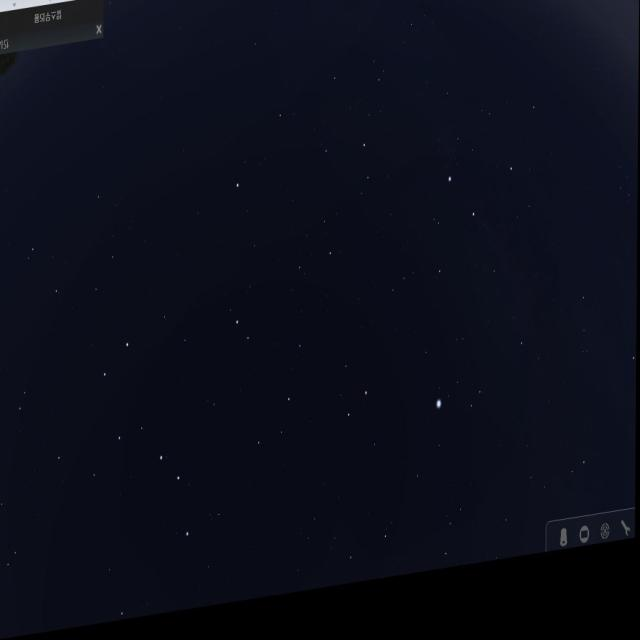cygnus: (431, 168, 541, 380)
lyra: (429, 372, 486, 445)
ursa_major: (100, 336, 199, 568)
